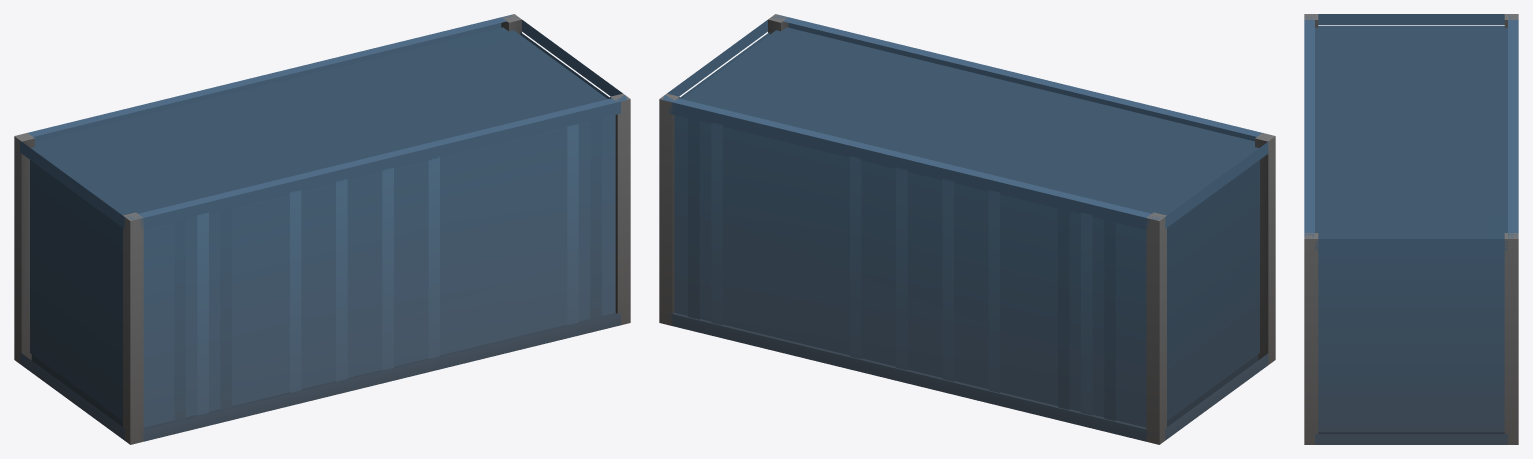
Rendered from box_blue.lod.glb.
The picture shows the model from 3 angles, left to right: view 1: azimuth 30°, elevation 25°; view 2: azimuth 150°, elevation 25°; view 3: azimuth 270°, elevation 25°; orthographic projection. The views are drawn at different scales.
Visible parts, largest first — view 1: box_blue; view 2: box_blue; view 3: box_blue.
Part boxes in pixels (x1,y1,x2,y2): box_blue: (14, 14, 630, 444); box_blue: (659, 14, 1275, 444); box_blue: (1304, 14, 1518, 444).
Bounding box in the file's own units: 6.06 × 2.59 × 2.44.
